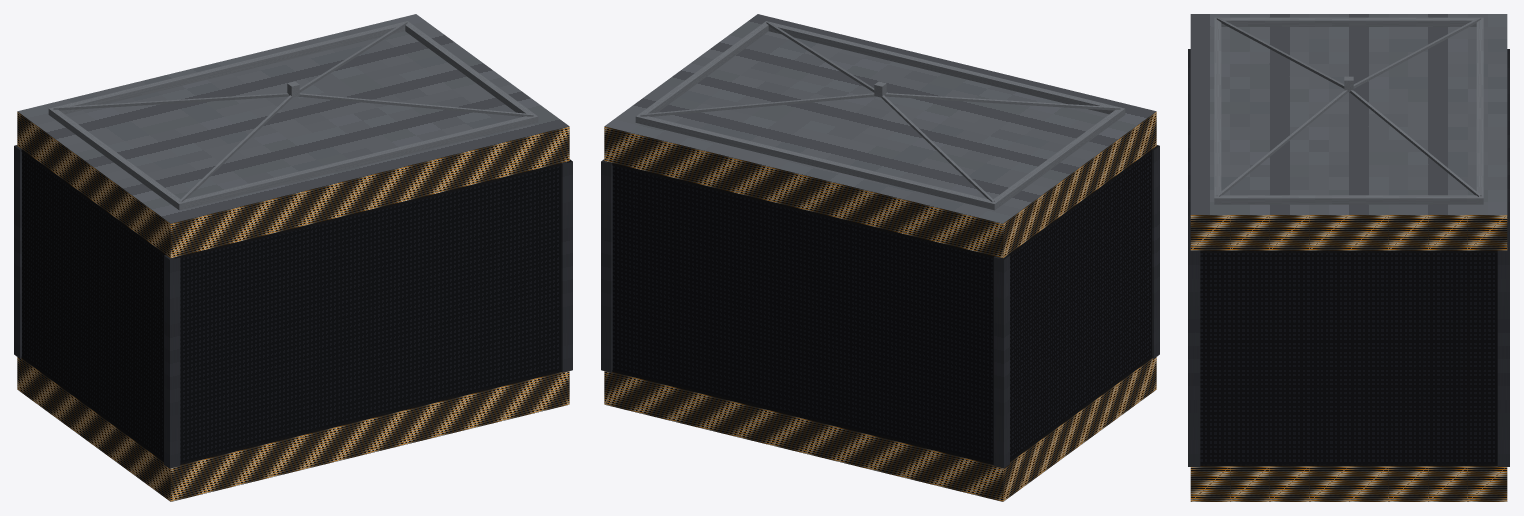
Rendered from centre_hung_scoreboard.obj.
3 renders of one model, left to right at view 1: azimuth 30°, elevation 25°; view 2: azimuth 150°, elevation 25°; view 3: azimuth 270°, elevation 25°, orthographic. The views are drawn at different scales.
Visible parts, largest first — view 1: centre_hung_scoreboard; view 2: centre_hung_scoreboard; view 3: centre_hung_scoreboard.
Part boxes in pixels (box(x1,y1,x2,y2)): centre_hung_scoreboard: box(14, 14, 572, 501); centre_hung_scoreboard: box(601, 14, 1159, 501); centre_hung_scoreboard: box(1188, 14, 1509, 501).
Bounding box in the file's own units: 12.12 × 9.01 × 8.12.
